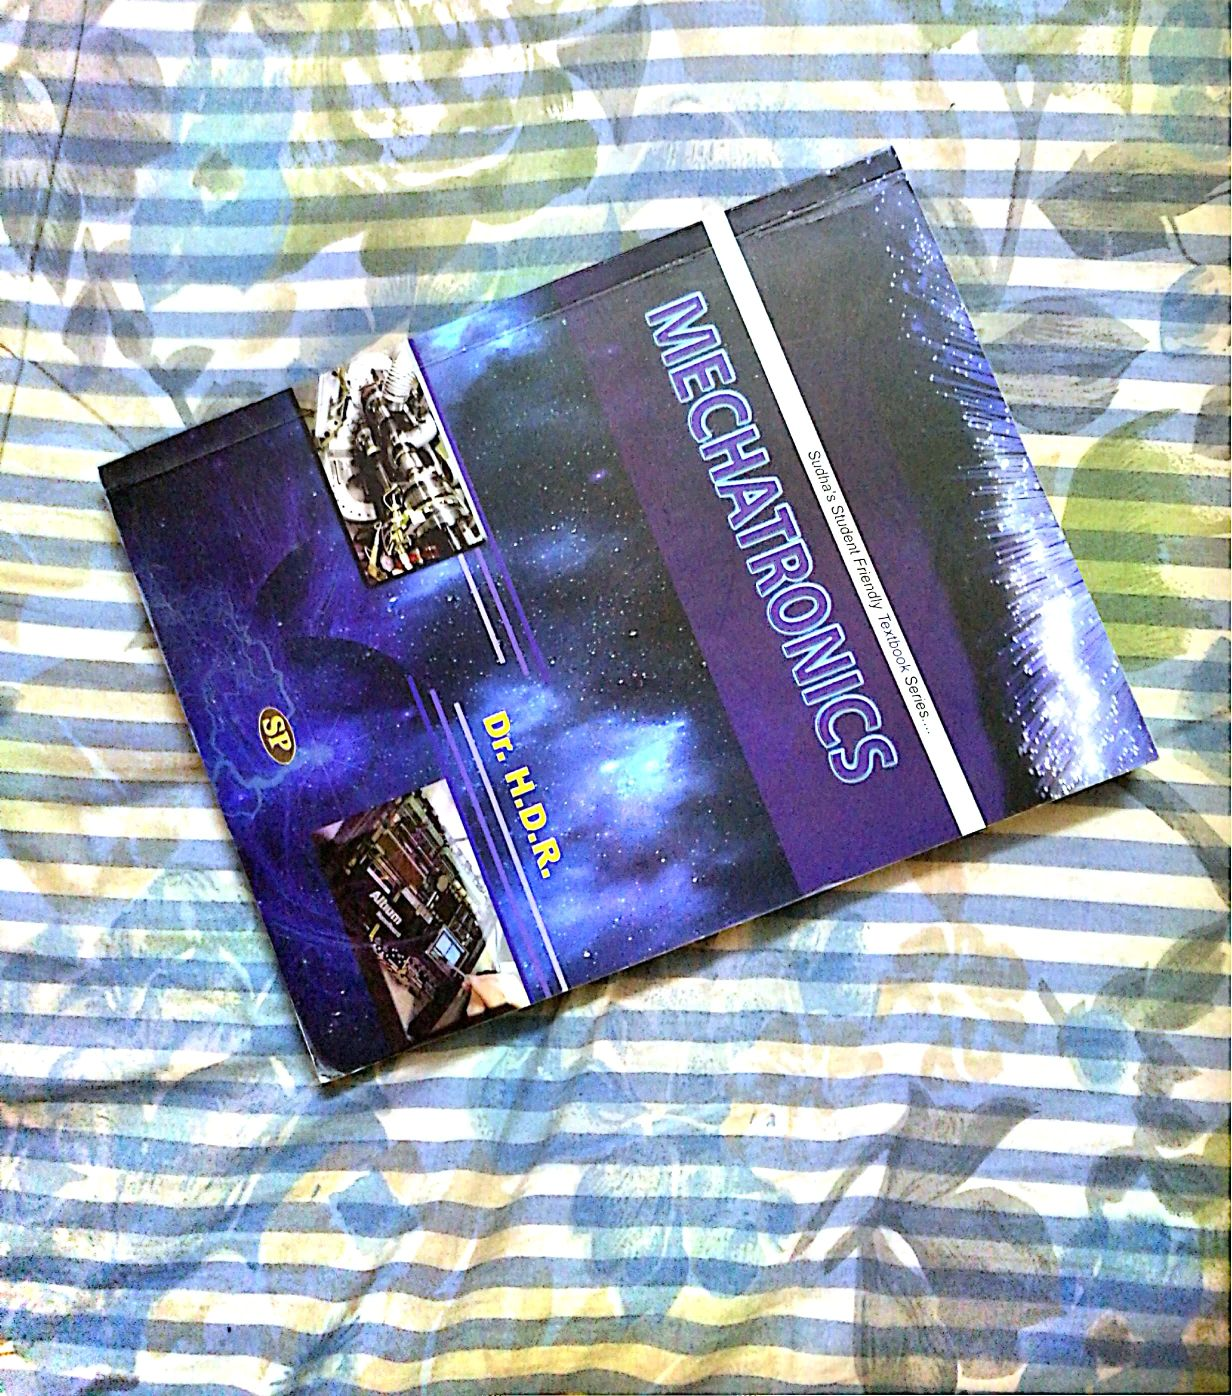mechatronics: (112, 195, 1194, 1065)
